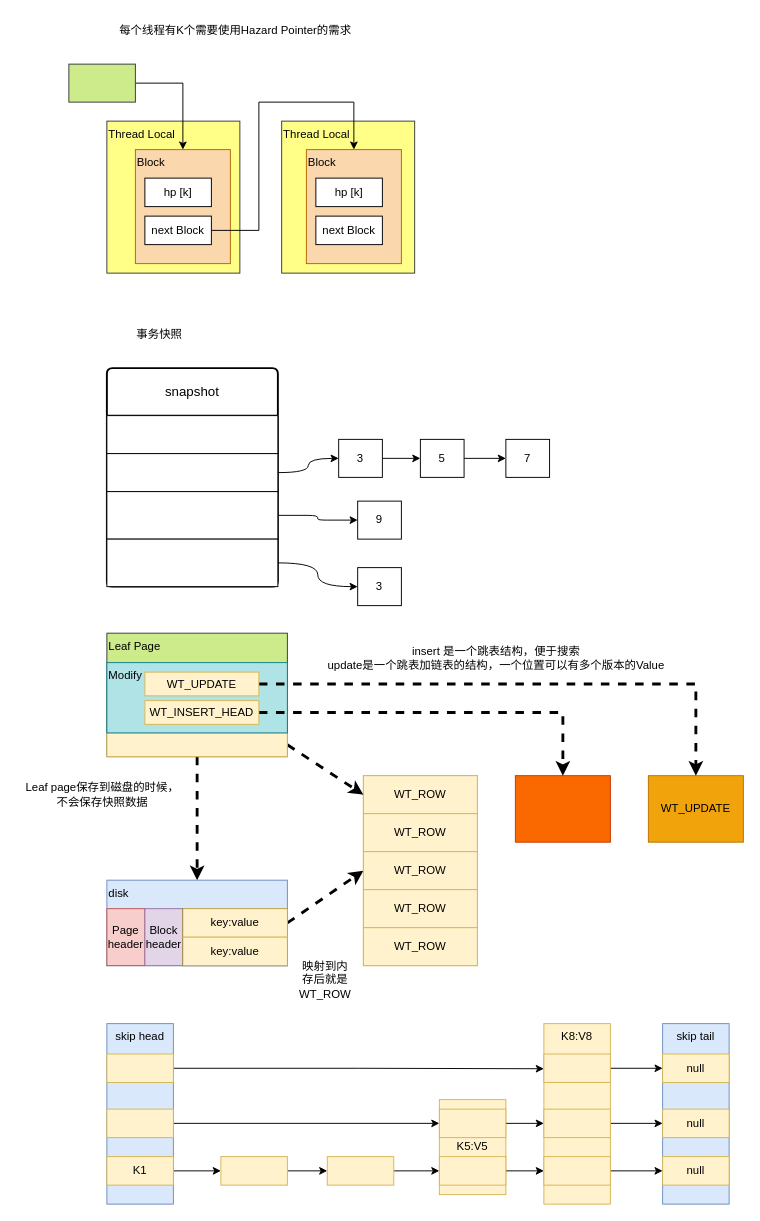
Image size: 760x1221. Some labels were removed from this diagram. Each missing label, with the centre of its shape:
"Concurrent Active Transactions" goes at point (192, 472).
"global" goes at point (101, 82).
"K1:V1" goes at point (253, 1170).
"K2:V2" goes at point (360, 1170).
"K5" goes at point (139, 1123).
"K8" goes at point (139, 1068).
"Maximum Transactions" goes at point (192, 515).
"Minimum Transactions" goes at point (192, 562).
"snapshot [TXID 8]" goes at point (192, 434).
"WT_INSERT" goes at point (562, 808).
"WT_ROW Array" goes at point (196, 744).
